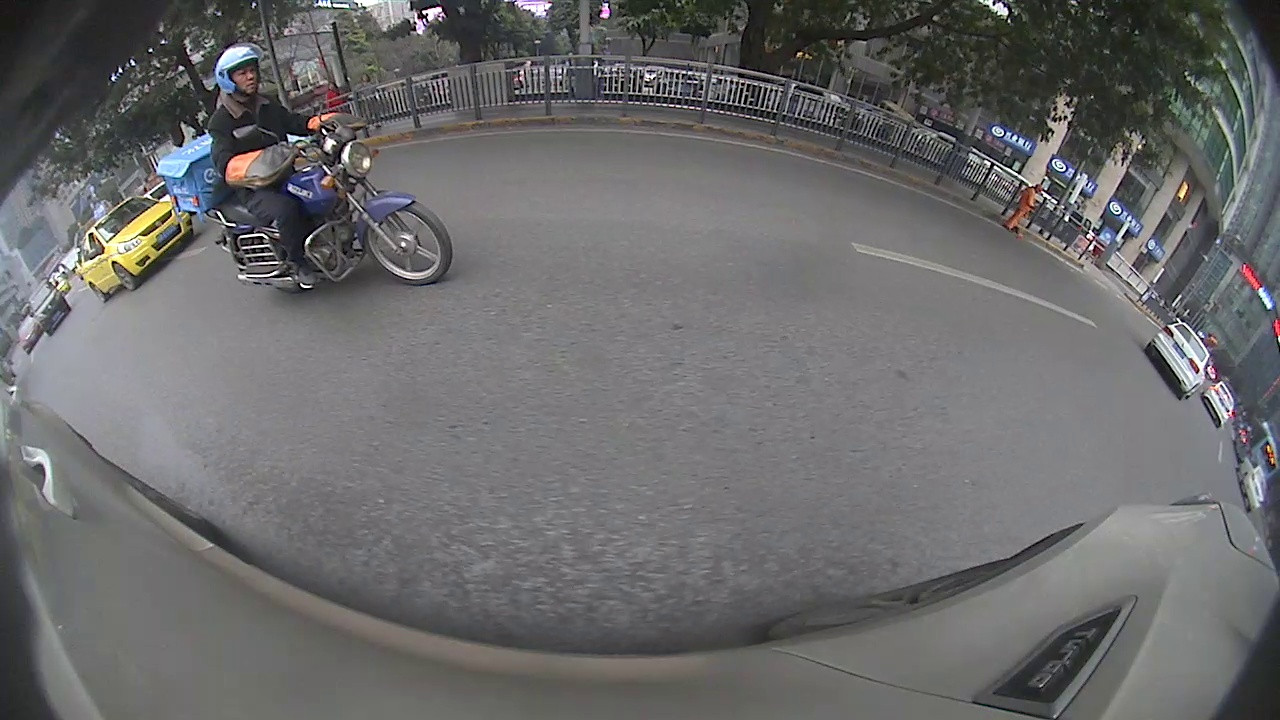car: (76, 194, 194, 303), (1143, 320, 1215, 403)
front: (360, 193, 450, 289), (110, 261, 138, 294)
rider: (155, 41, 452, 297)
